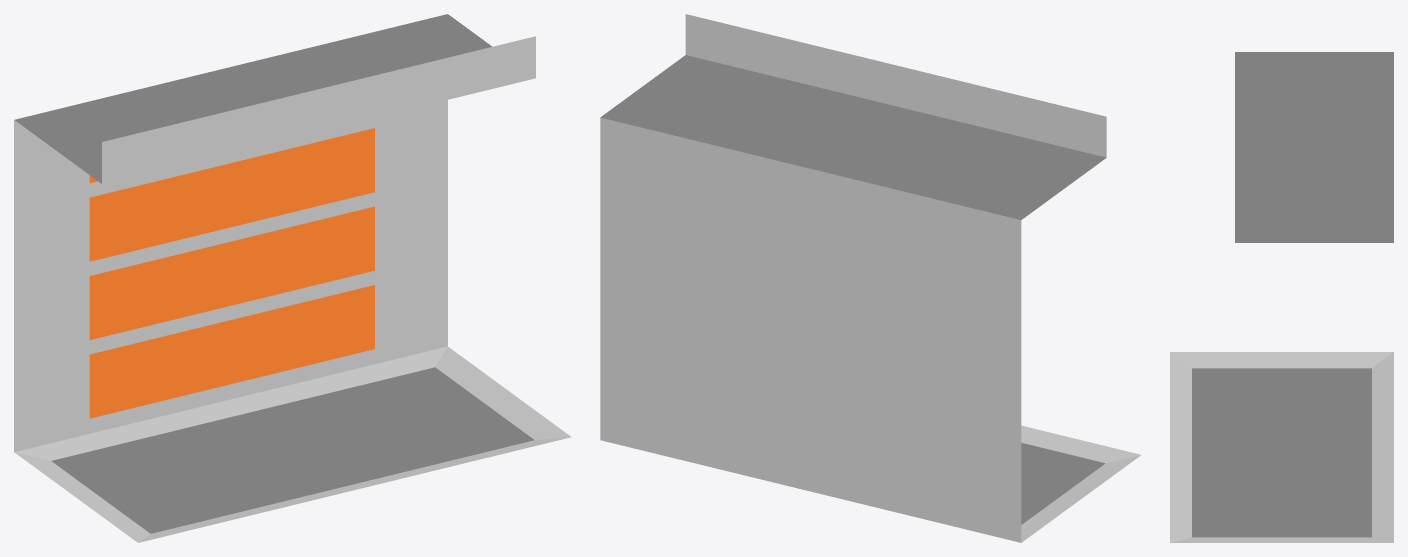
File: Grill.glb
3 views of the same model, side by side, from view 1: azimuth 30°, elevation 25°; view 2: azimuth 150°, elevation 25°; view 3: azimuth 270°, elevation 25° (orthographic). The views are drawn at different scales.
Parts seen in each view (by area): view 1: Grill; view 2: Grill; view 3: Grill.
Part boxes in pixels (x1,y1,x2,y2): Grill: [14, 14, 571, 542]; Grill: [600, 14, 1140, 542]; Grill: [1170, 52, 1393, 542].
Size of the model in its own units: 15.18 by 12.73 by 7.51.
Materials: 1 (1 with a texture image).
